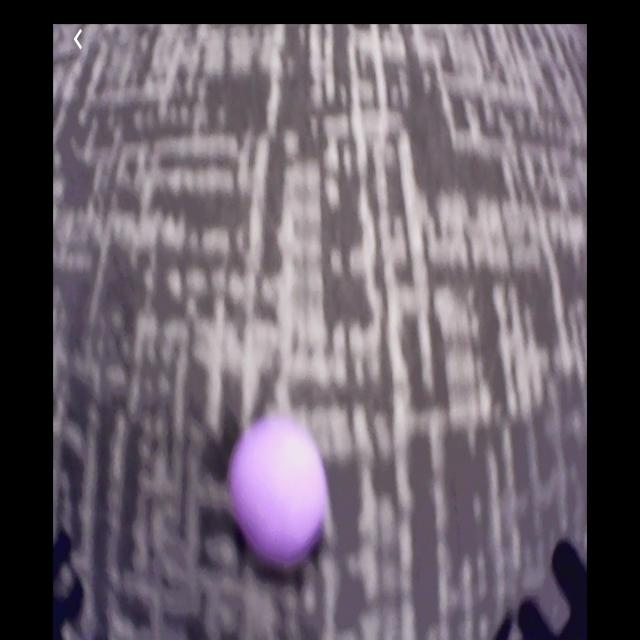ball: (233, 415, 327, 564)
